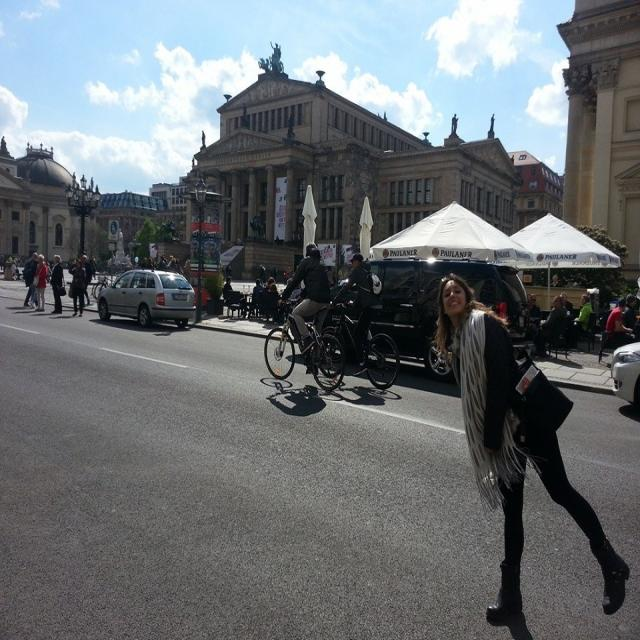body: (429, 268, 631, 628), (325, 250, 383, 377), (279, 240, 332, 378), (445, 106, 518, 165), (218, 253, 303, 288), (535, 294, 568, 356), (605, 296, 634, 340), (49, 253, 68, 315), (67, 257, 85, 318), (22, 249, 40, 309), (67, 168, 103, 197), (189, 126, 209, 174), (33, 252, 48, 314), (23, 250, 39, 308), (257, 41, 281, 75), (574, 294, 594, 332), (107, 228, 128, 263), (267, 282, 284, 324), (81, 253, 93, 307), (623, 293, 639, 329), (250, 278, 265, 316), (157, 254, 168, 302), (284, 108, 298, 144), (147, 255, 158, 299), (2, 254, 30, 271), (172, 258, 182, 305), (165, 253, 174, 305), (145, 256, 155, 300), (80, 255, 88, 308), (560, 291, 574, 318), (527, 293, 541, 319), (44, 252, 54, 284), (222, 274, 234, 300), (10, 255, 22, 281), (87, 254, 98, 282), (0, 135, 12, 158), (240, 98, 249, 127), (162, 216, 175, 236), (183, 258, 192, 284), (262, 276, 276, 290), (549, 274, 562, 289), (159, 251, 169, 265), (167, 259, 177, 273), (272, 233, 280, 248), (7, 253, 13, 271), (0, 251, 5, 271), (141, 257, 149, 268)
